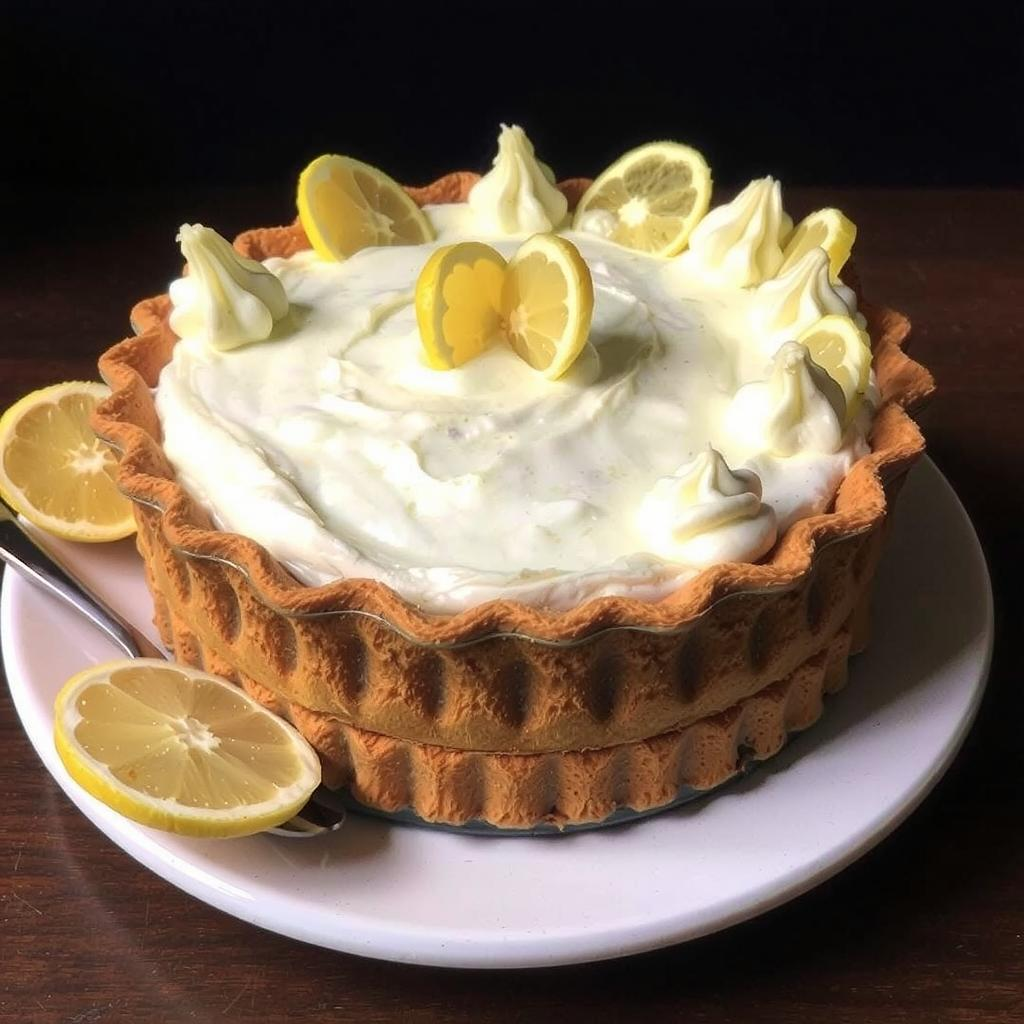cake: (83, 116, 959, 840)
